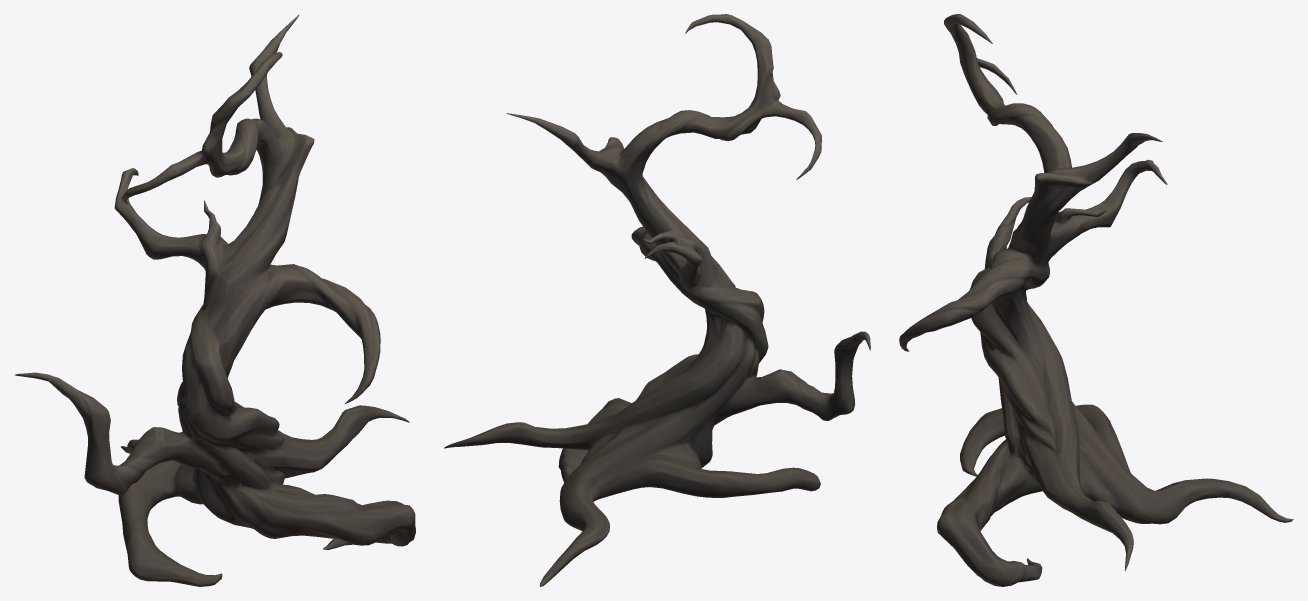
The model's file is swirly_tree_01_a.glb.
The picture shows the model from 3 angles, left to right: view 1: azimuth 30°, elevation 25°; view 2: azimuth 150°, elevation 25°; view 3: azimuth 270°, elevation 25°; orthographic projection. The views are drawn at different scales.
Parts seen in each view (by area): view 1: SM_KC_SWIRLYTREE_01_A; view 2: SM_KC_SWIRLYTREE_01_A; view 3: SM_KC_SWIRLYTREE_01_A.
Boxes of the visible parts, <box> form: SM_KC_SWIRLYTREE_01_A: <box>15,14,415,586</box>; SM_KC_SWIRLYTREE_01_A: <box>444,14,870,586</box>; SM_KC_SWIRLYTREE_01_A: <box>899,14,1293,586</box>.
Bounding box in the file's own units: 17.64 × 20.81 × 14.7.
1 material, 1 textured.
